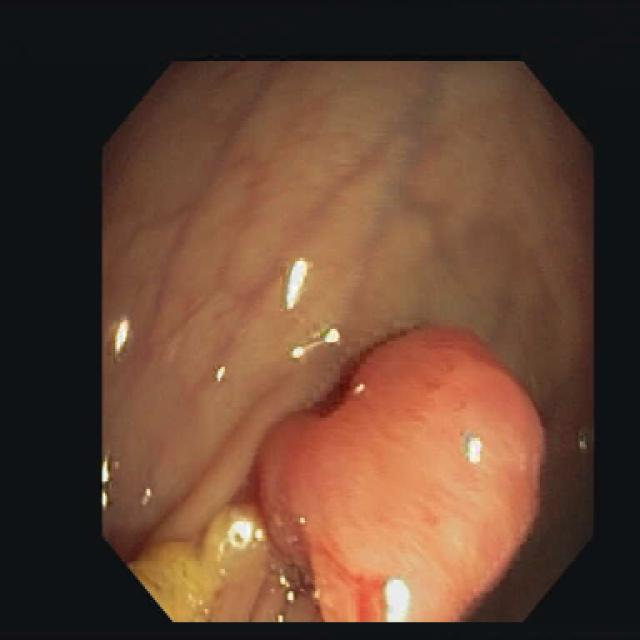tumor: (253, 327, 542, 620)
